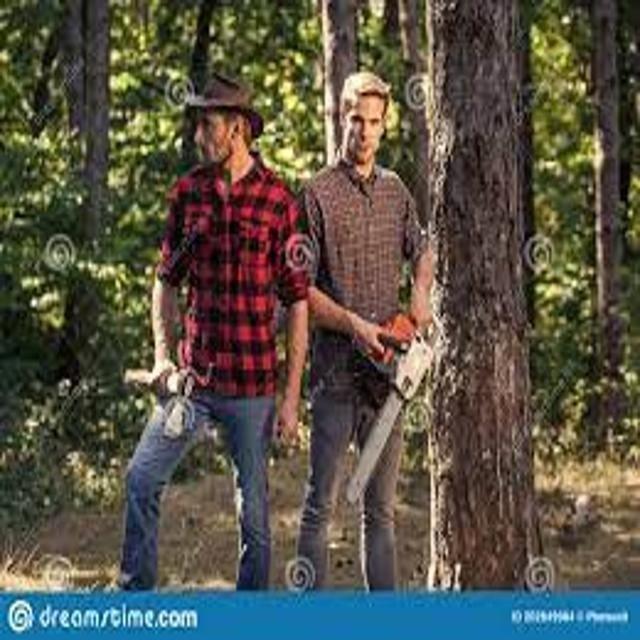poacher: (79, 55, 344, 588), (258, 55, 490, 592)
